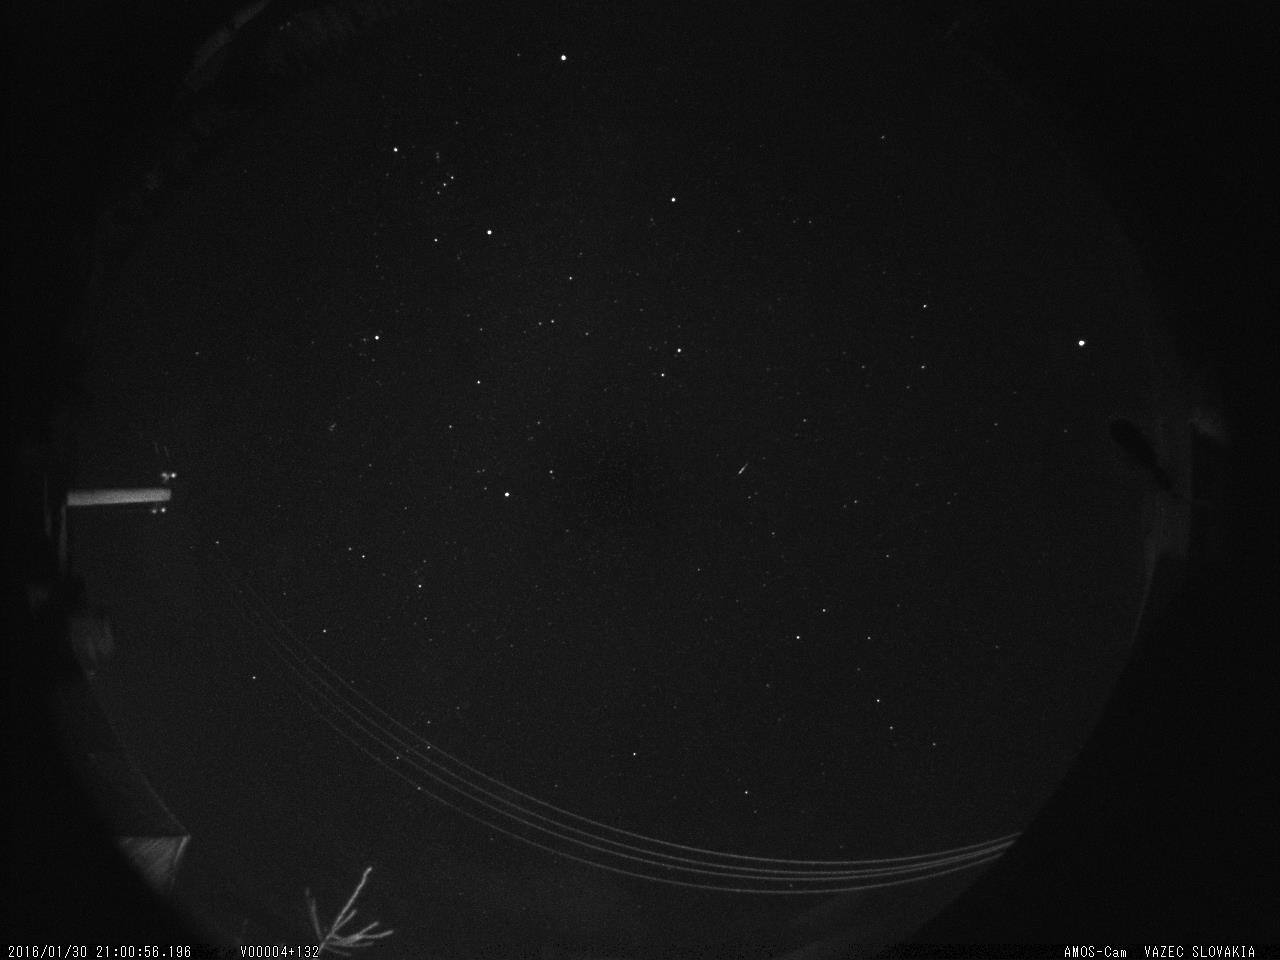meteor: (721, 450, 761, 485)
